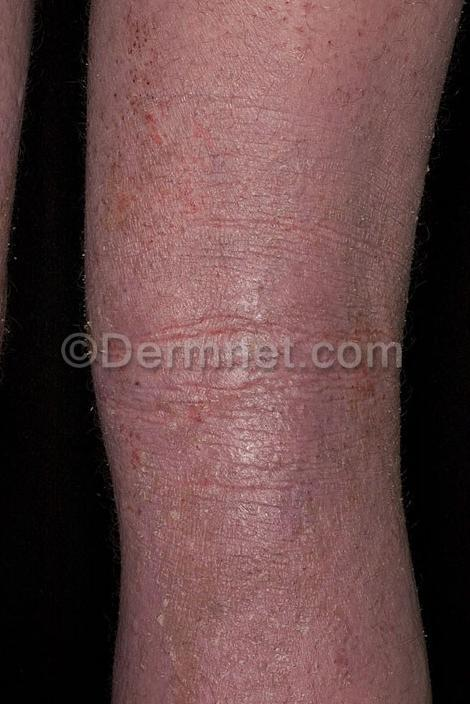exudacion 1: (111, 1, 173, 151)
xerosis 2: (78, 164, 179, 704)
xerosis 3: (337, 44, 451, 704)
